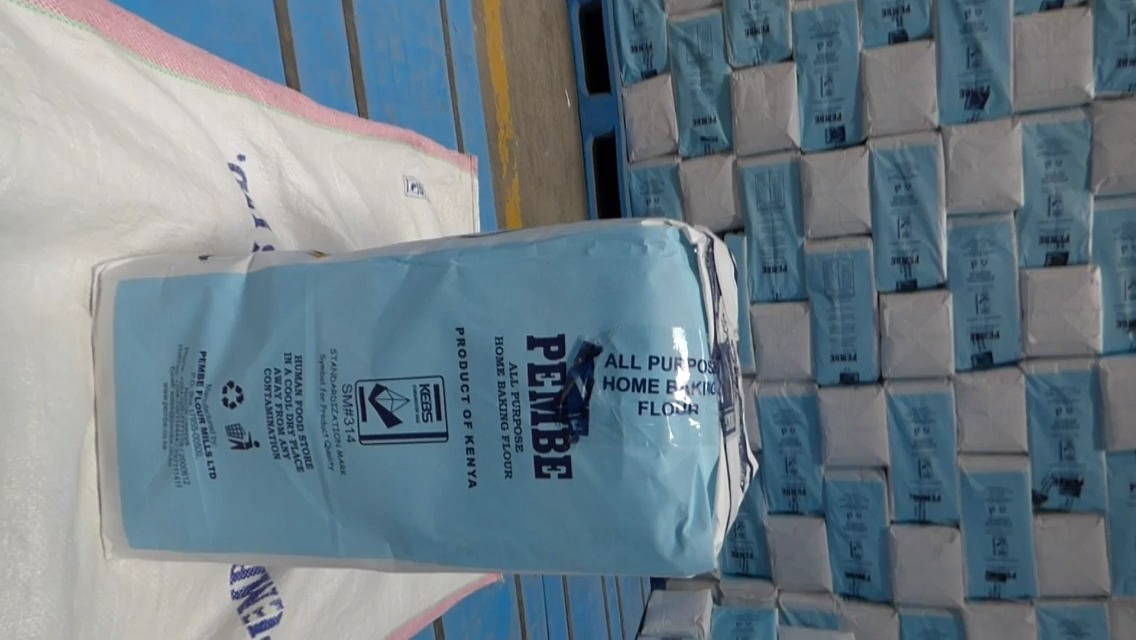wheat_flour_blue_label: (91, 217, 758, 575)
